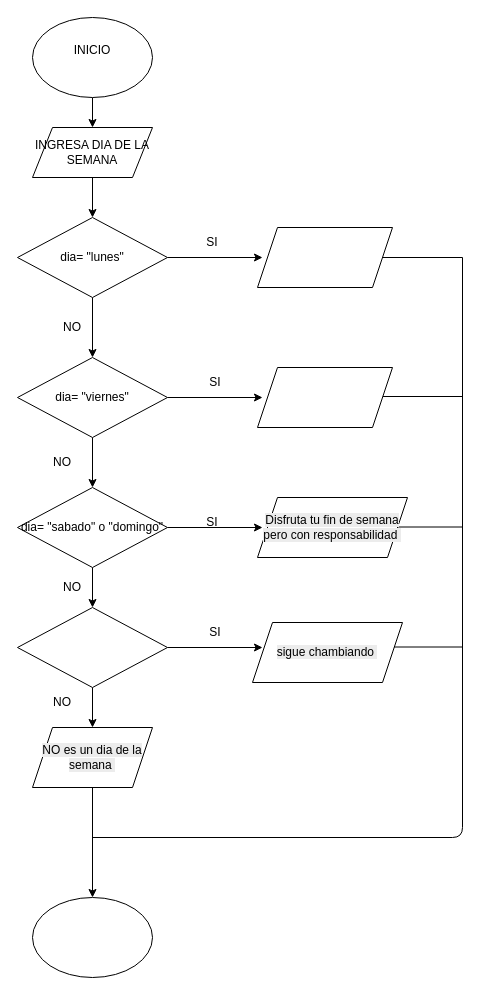
The diagram is 481 pixels wide and 995 high, and some of its shapes have lost their labels. Here are the shapes that lost their labels. From the top down, the centre of each, then its label:
(x=324, y=257): Que tengas un buen inicio de semana
(x=324, y=397): Hoy es viernes y el cuerpo lo sabe
(x=92, y=647): dia= "martes", "miercoles" o "jueves"
(x=92, y=937): FIN
